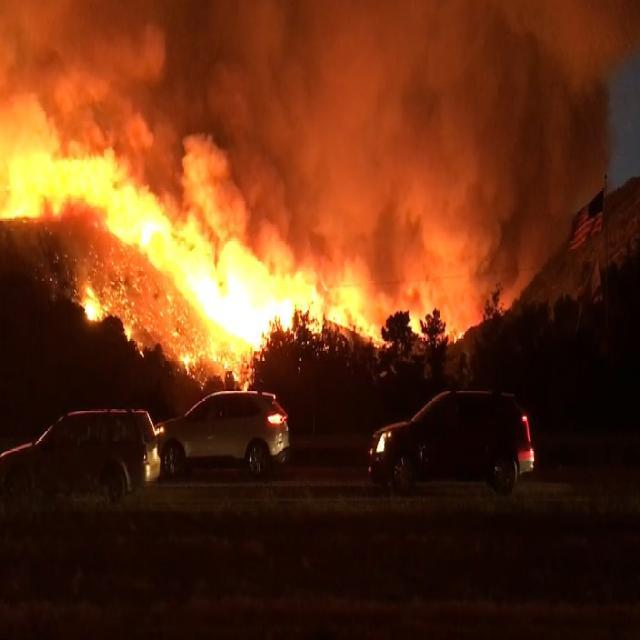Smoke: (201, 0, 640, 344), (0, 0, 177, 189), (184, 120, 256, 258)
